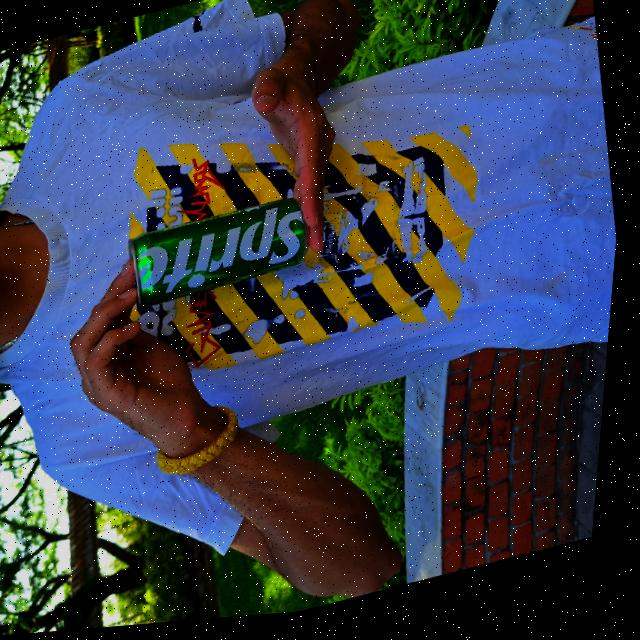Sprite: (120, 196, 319, 315)
